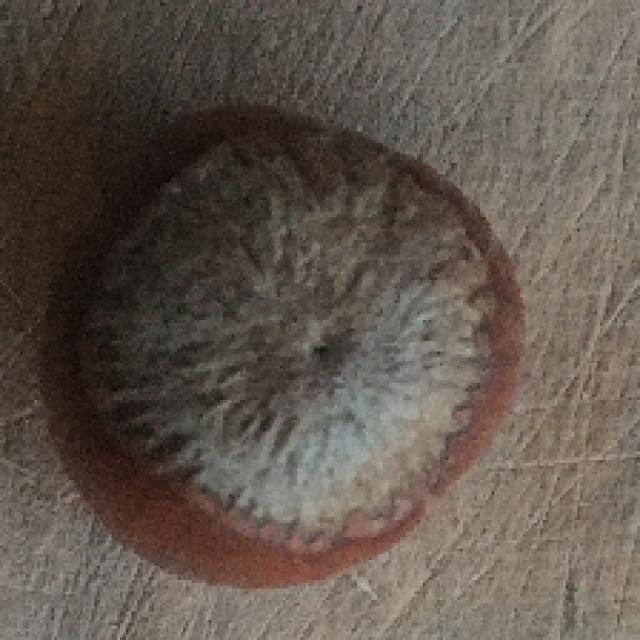qualityHazelnut: (17, 88, 544, 582)
